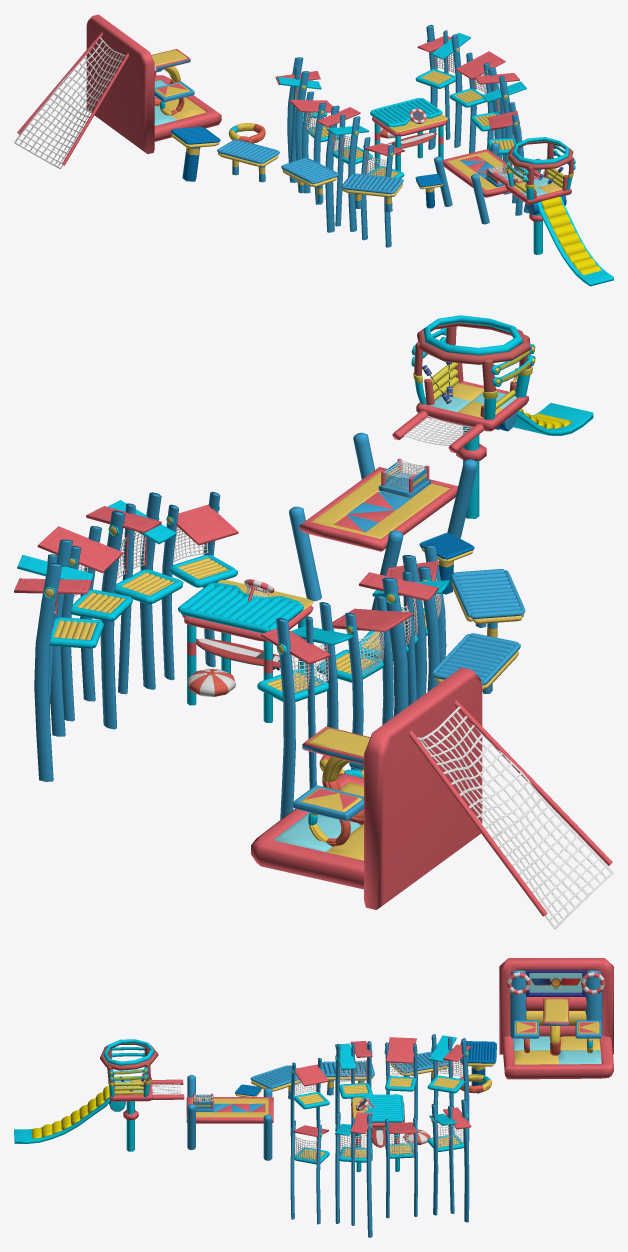
Rendered from Prueba3.fbx.
3 renders of one model, top to bottom at view 1: azimuth 30°, elevation 25°; view 2: azimuth 150°, elevation 25°; view 3: azimuth 270°, elevation 25°, orthographic. The views are drawn at different scales.
Visible parts, largest first — view 1: pCube87, red10, baseTop, base3, polySurface1570, ramp2, pCube86, polySurface1551, polySurface2233, polySurface2235, polySurface2232, pCube9 (+27 smaller); view 2: pCube87, red10, pCube86, base3, baseTop, polySurface1570, polySurface1551, polySurface2276, polySurface2232, polySurface2236, base2, polySurface2252 (+39 smaller); view 3: base3, pCube87, pCube86, baseTop, polySurface1570, polySurface2253, polySurface2235, ramp2, polySurface1551, polySurface2232, pCube9, Cube__8__4 (+30 smaller).
Boxes of the visible parts, <box> form: pCube87: <box>86,14,154,154</box>; red10: <box>14,37,125,169</box>; baseTop: <box>506,137,575,200</box>; base3: <box>154,75,221,141</box>; polySurface1570: <box>370,98,447,136</box>; ramp2: <box>541,196,600,274</box>; pCube86: <box>442,149,524,197</box>; polySurface1551: <box>341,173,403,212</box>; polySurface2233: <box>217,139,279,182</box>; polySurface2235: <box>170,127,220,181</box>; polySurface2232: <box>281,158,338,202</box>; pCube9: <box>537,196,613,286</box>; pCube87: <box>364,667,482,909</box>; red10: <box>417,706,613,929</box>; pCube86: <box>299,467,457,551</box>; base3: <box>251,773,364,889</box>; baseTop: <box>411,315,535,419</box>; polySurface1570: <box>178,580,313,641</box>; polySurface1551: <box>450,569,525,637</box>; polySurface2276: <box>34,563,62,781</box>; polySurface2232: <box>432,633,520,693</box>; polySurface2236: <box>409,700,612,916</box>; base2: <box>416,381,528,431</box>; polySurface2252: <box>276,617,295,819</box>; base3: <box>502,1036,613,1079</box>; pCube87: <box>499,958,613,1054</box>; pCube86: <box>186,1097,273,1123</box>; baseTop: <box>100,1039,158,1096</box>; polySurface1570: <box>351,1094,404,1127</box>; polySurface2253: <box>529,973,582,992</box>; polySurface2235: <box>460,1041,496,1093</box>; ramp2: <box>31,1086,109,1138</box>; polySurface1551: <box>250,1065,301,1099</box>; polySurface2232: <box>321,1061,374,1095</box>; pCube9: <box>14,1097,109,1143</box>; Cube__8__4: <box>543,998,568,1025</box>.
Bounding box in the file's own units: 10571 × 4055 × 14762.
34 materials, 1 textured.
